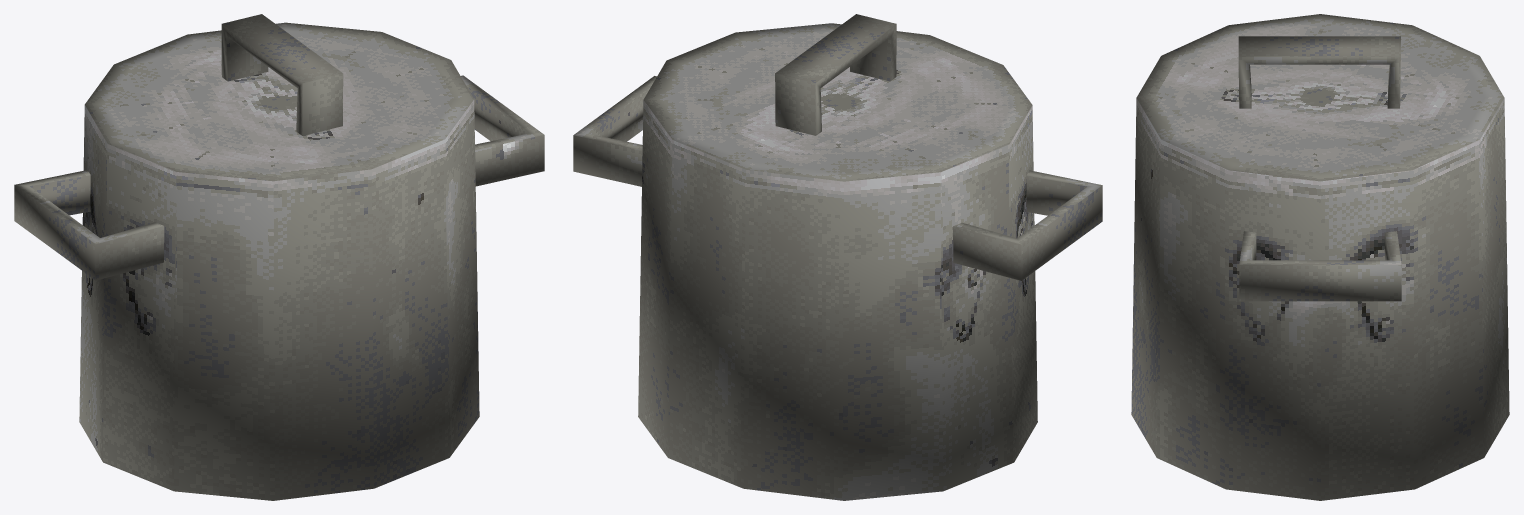
The model's file is PSX_Stockpot.glb.
3 renders of one model, left to right at view 1: azimuth 30°, elevation 25°; view 2: azimuth 150°, elevation 25°; view 3: azimuth 270°, elevation 25°, orthographic.
Parts seen in each view (by area): view 1: SM_PSX_Stockpot; view 2: SM_PSX_Stockpot; view 3: SM_PSX_Stockpot.
Part boxes in pixels (x1,y1,x2,y2): SM_PSX_Stockpot: [14, 14, 544, 500]; SM_PSX_Stockpot: [573, 14, 1102, 500]; SM_PSX_Stockpot: [1131, 14, 1509, 500].
Bounding box in the file's own units: 0.7448 × 0.5877 × 0.544.
Materials: 1 (1 with a texture image).
